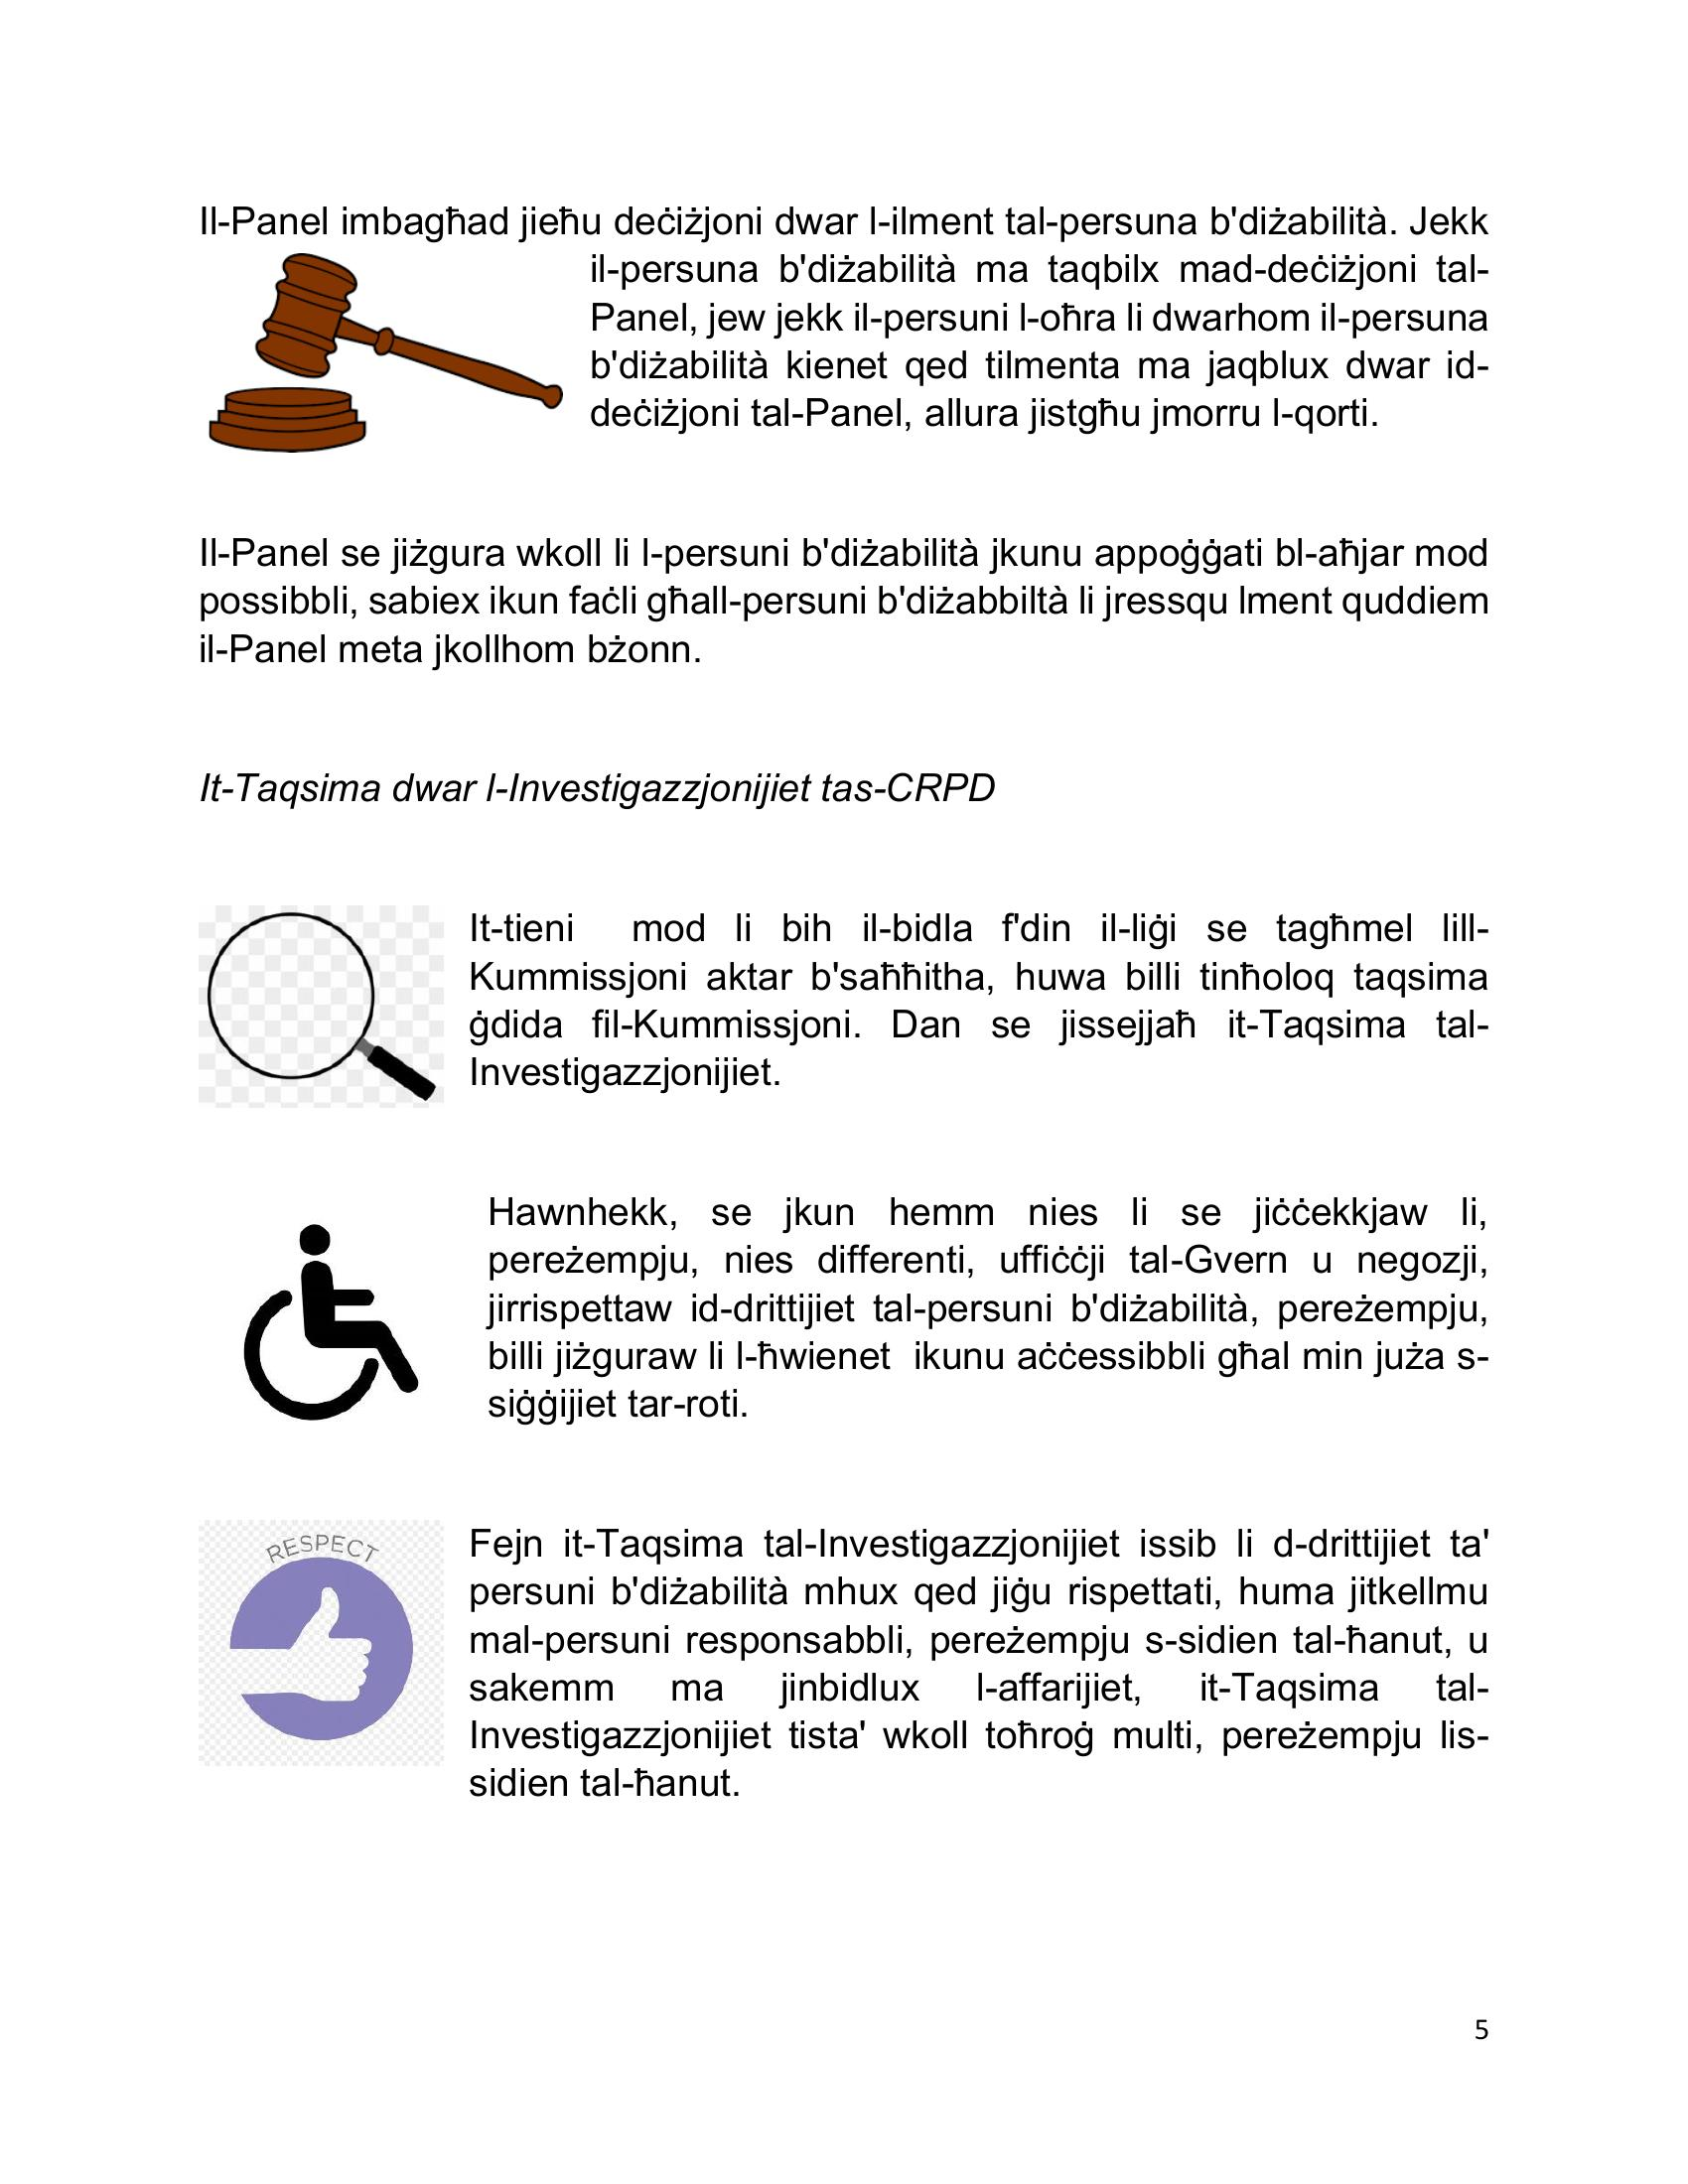text: (461, 893, 1509, 1815), (176, 177, 1511, 840)
whiteout: (204, 245, 573, 468)
